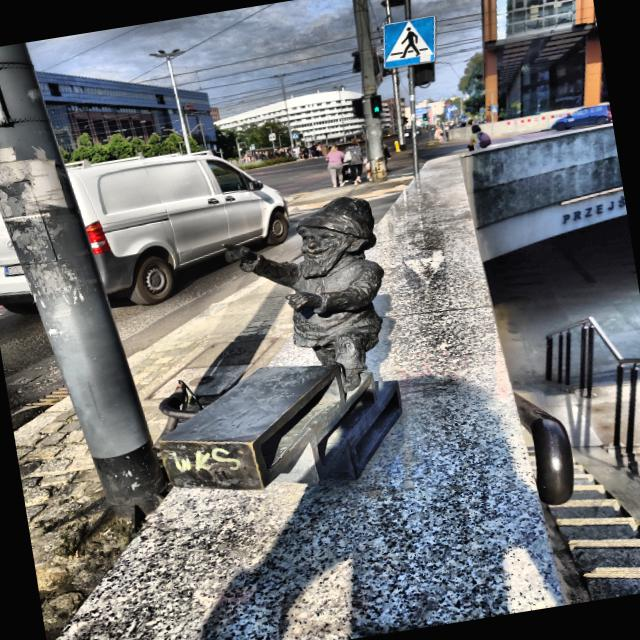Elementek: (159, 197, 402, 490)
